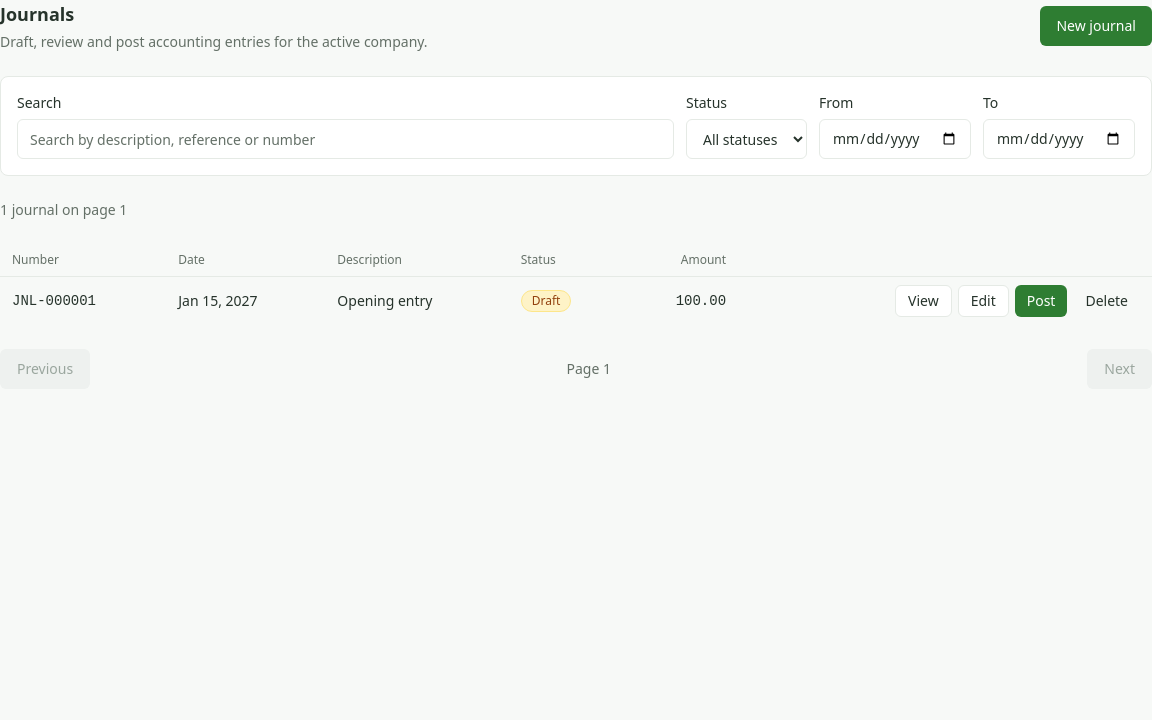
Test: JournalsView › opens the create dialog from the header action
Click the button "New journal".
click(1096, 26)  # box [1040,6,1151,46]
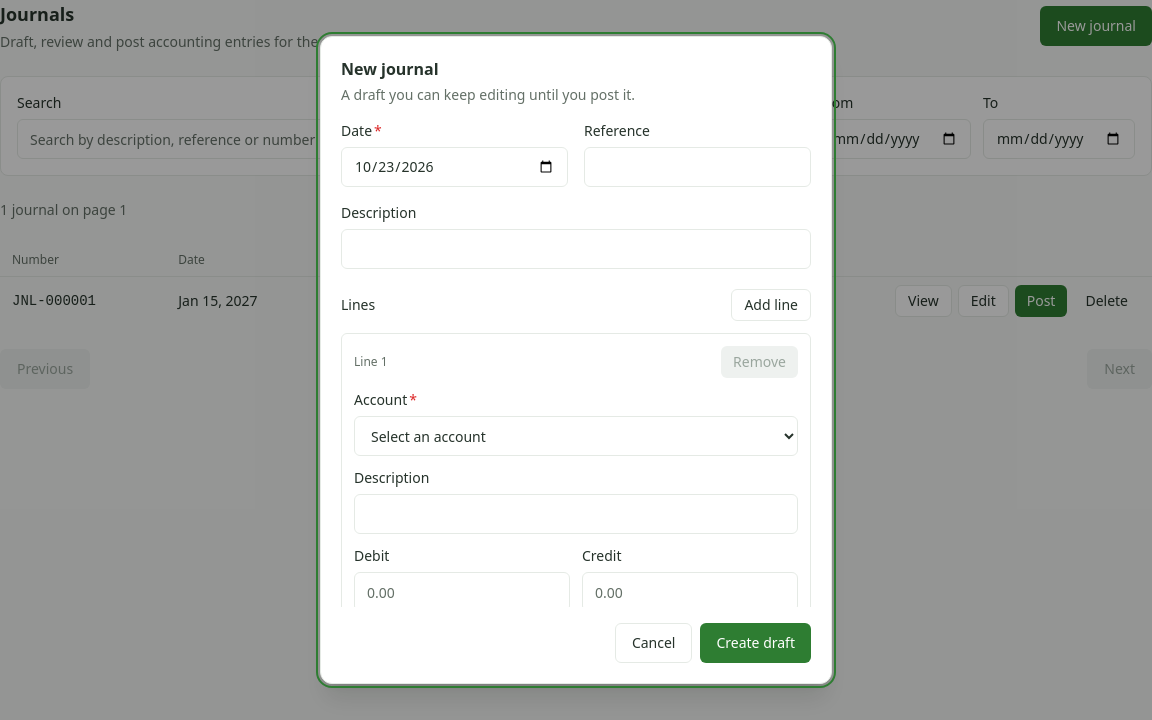
Now the dialog "New journal" is shown, box [320,36,832,684]
